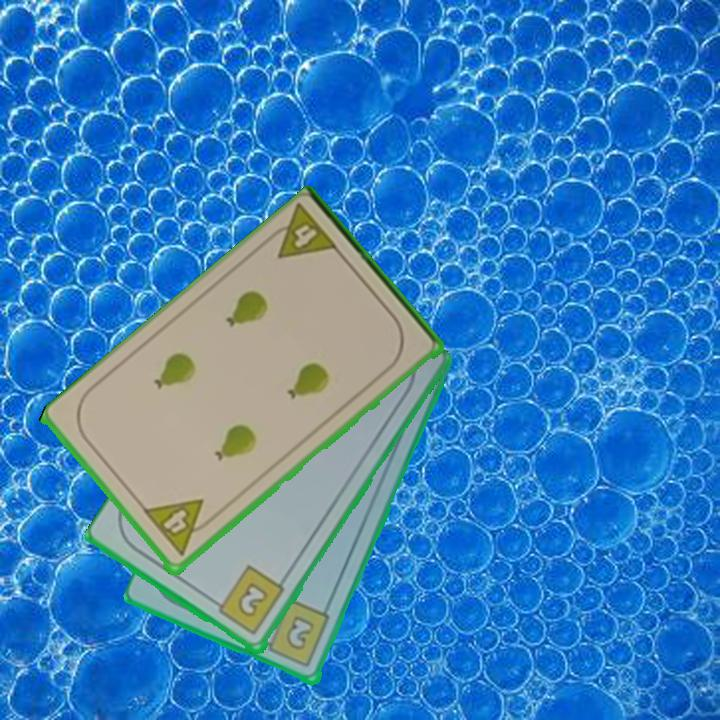2b: (208, 563, 288, 639), (257, 597, 333, 671)
4p: (260, 201, 342, 263), (141, 496, 218, 560)
